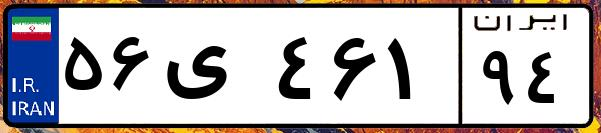1: (385, 28, 445, 110)
4: (270, 28, 330, 110), (525, 38, 570, 115)
5: (57, 26, 110, 100)
6: (330, 28, 385, 110), (110, 28, 158, 98)
9: (475, 38, 525, 113)
ی: (158, 20, 270, 120)
